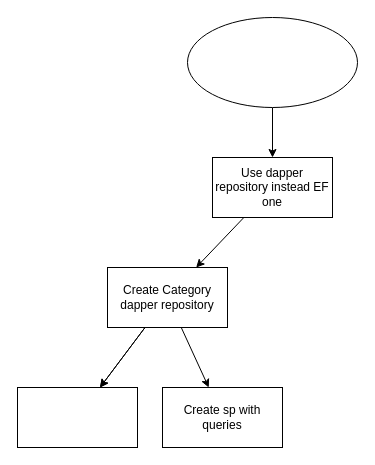
Some shapes in this 375 by 465 pixel diagram are drawn without their labels. Each missing label, with the centre of its shape:
"Install dependences" goes at (77,417).
"MIKADO GOAL Use dapper with db-first instead EF with code-first" goes at (272,62).
